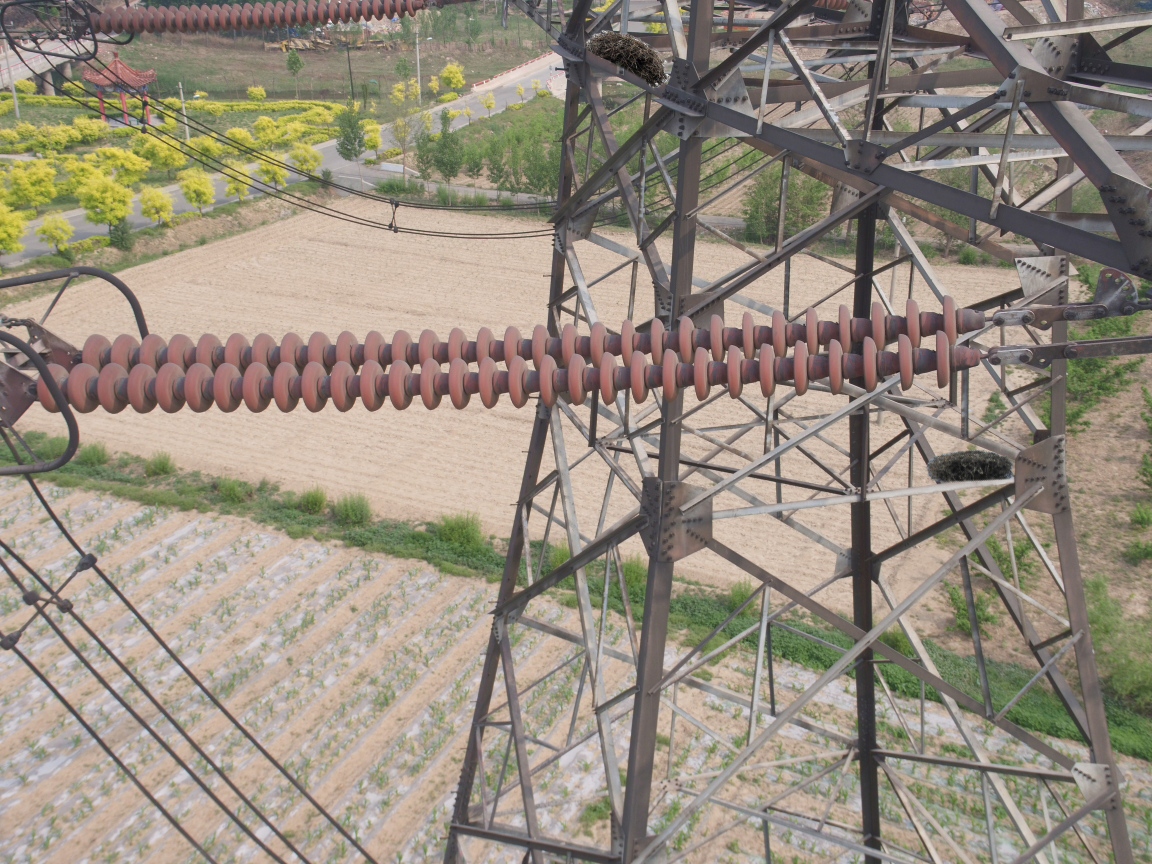nest: (573, 21, 671, 90), (919, 449, 1017, 490)
